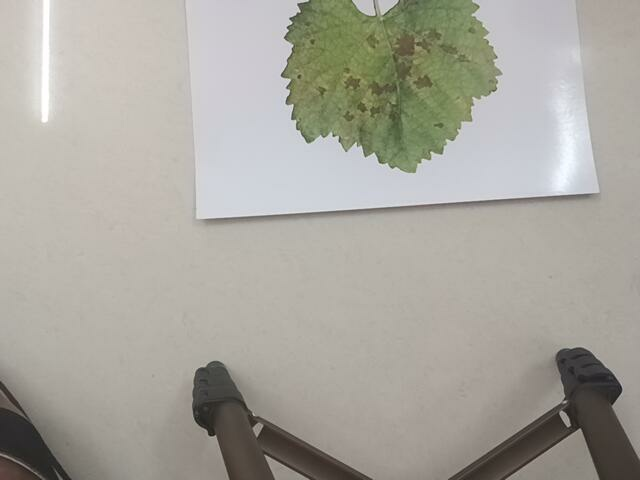Grape_Leaf_Vine_Disease: (279, 2, 523, 169)
